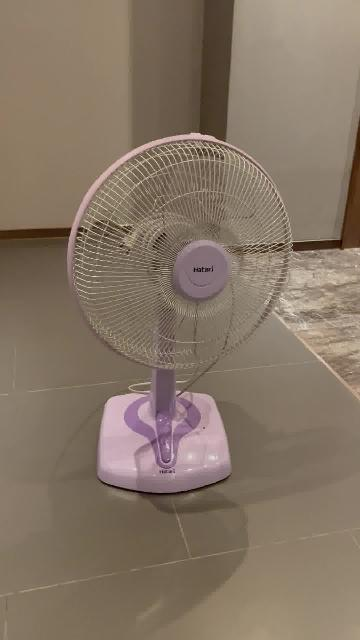Fan: (67, 133, 293, 496)
